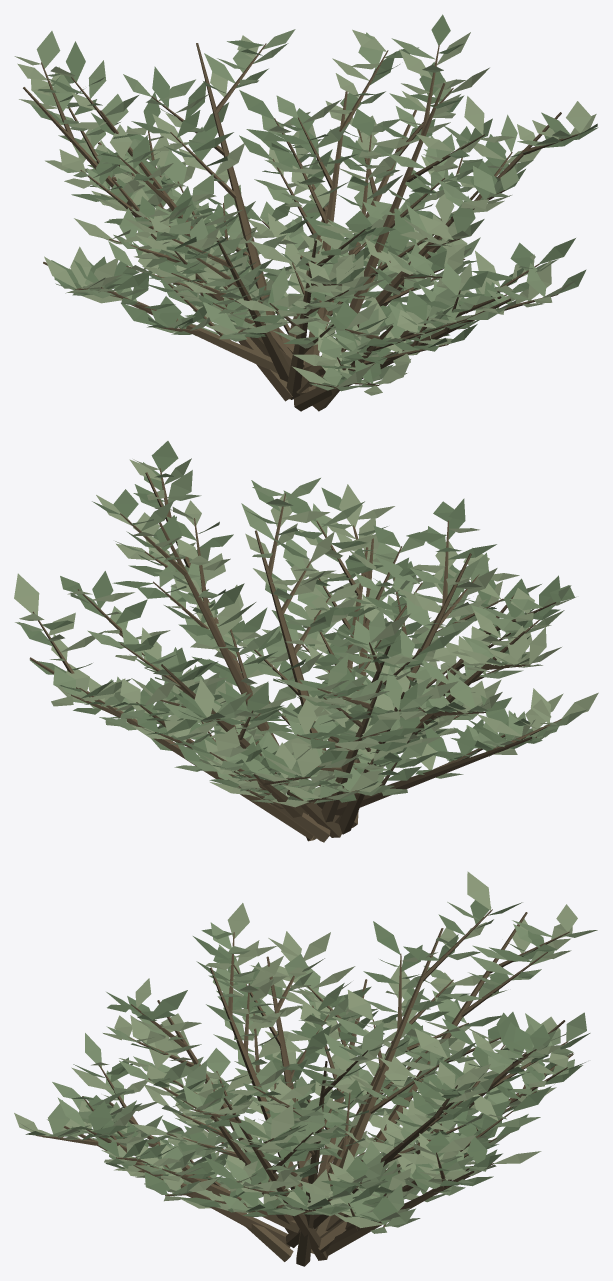
The model's file is bush_16.glb.
The picture shows the model from 3 angles, top to bottom: view 1: azimuth 30°, elevation 25°; view 2: azimuth 150°, elevation 25°; view 3: azimuth 270°, elevation 25°; orthographic projection. The views are drawn at different scales.
Parts seen in each view (by area): view 1: bush_16; view 2: bush_16; view 3: bush_16.
Boxes of the visible parts, left/top/right/bottom form: bush_16: left=14, top=14, right=598, bottom=411; bush_16: left=14, top=441, right=598, bottom=842; bush_16: left=14, top=871, right=597, bottom=1266.
Size of the model in its own units: 1.95 by 1.2 by 2.06.
